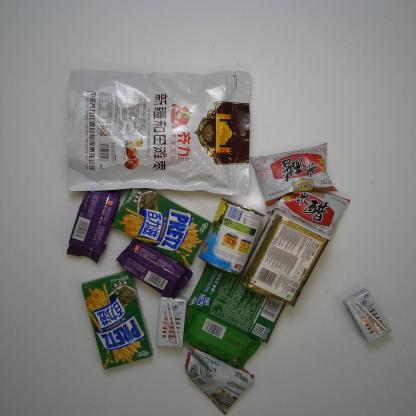Canned Food: (198, 198, 266, 275)
Dessert: (112, 180, 211, 267), (187, 259, 288, 344), (80, 268, 154, 368), (178, 305, 260, 370), (116, 235, 193, 299), (66, 179, 124, 263)
Dried Food: (66, 68, 251, 196)
Milk: (344, 288, 391, 342), (156, 295, 190, 347)
Seasoner: (250, 143, 338, 206), (183, 344, 256, 416), (266, 181, 350, 239)
Tissue: (241, 209, 329, 307)
